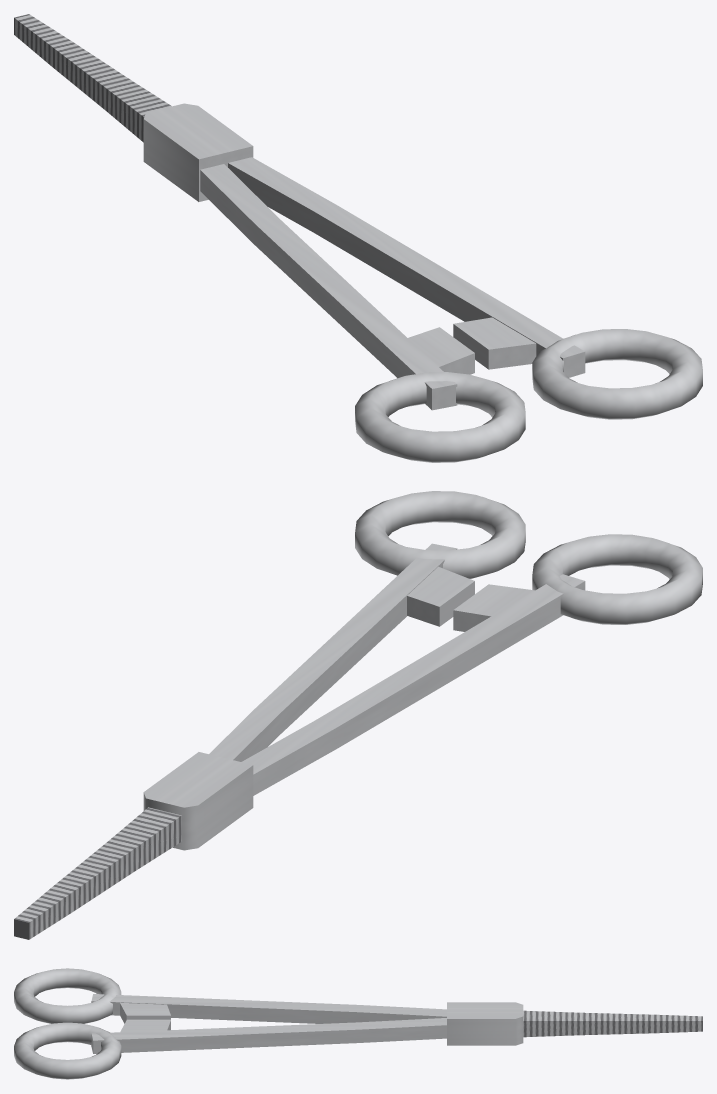
The model's file is crile_clamp.glb.
3 views of the same model, one above another, from view 1: azimuth 30°, elevation 25°; view 2: azimuth 150°, elevation 25°; view 3: azimuth 270°, elevation 25° (orthographic). The views are drawn at different scales.
Visible parts, largest first — view 1: s6b_crile_clamp; view 2: s6b_crile_clamp; view 3: s6b_crile_clamp.
Part boxes in pixels (x1,y1,x2,y2): s6b_crile_clamp: (14, 14, 702, 462); s6b_crile_clamp: (14, 491, 702, 939); s6b_crile_clamp: (14, 968, 702, 1079).
Size of the model in its own units: 0.0478 by 0.006 by 0.1399.
Materials: 1 (1 with a texture image).
